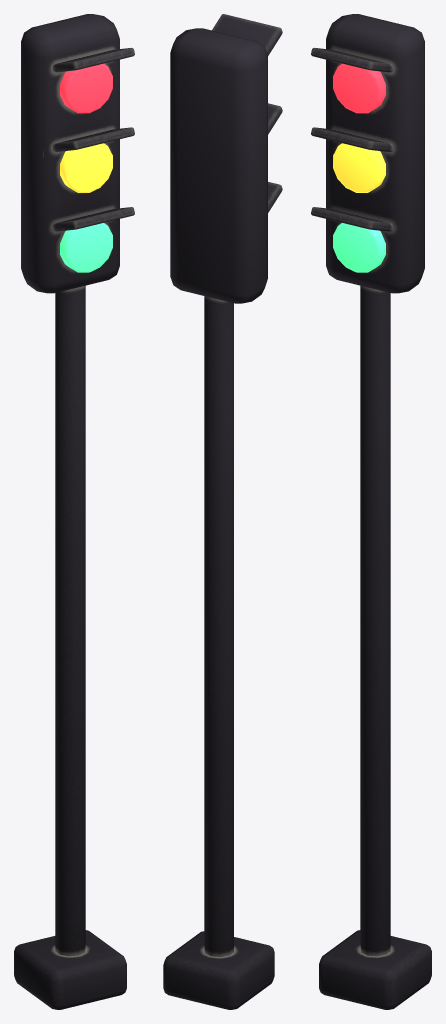
The model's file is rc_rail_signal.glb.
3 views of the same model, side by side, from view 1: azimuth 30°, elevation 25°; view 2: azimuth 150°, elevation 25°; view 3: azimuth 330°, elevation 25° (orthographic).
Visible parts, largest first — view 1: rc_rail_signal; view 2: rc_rail_signal; view 3: rc_rail_signal.
Part boxes in pixels (bbox=[...]): rc_rail_signal: bbox=[14, 14, 134, 1009]; rc_rail_signal: bbox=[163, 14, 282, 1009]; rc_rail_signal: bbox=[311, 14, 431, 1009].
Size of the model in its own units: 0.45 by 4.85 by 0.5178.
4 materials, 4 textured.
